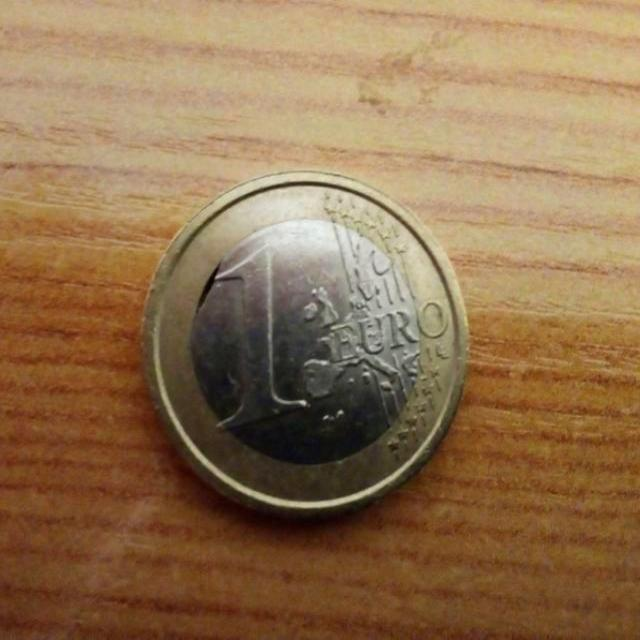1e: (125, 156, 509, 548)
